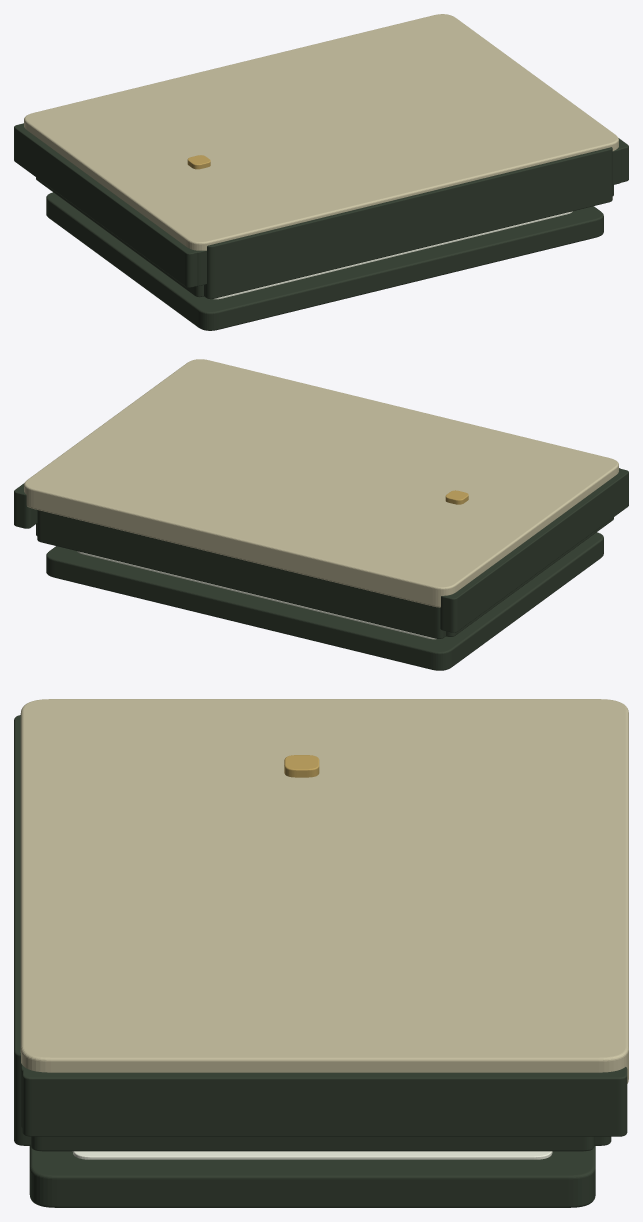
The model's file is balance-box.glb.
3 renders of one model, top to bottom at view 1: azimuth 30°, elevation 25°; view 2: azimuth 150°, elevation 25°; view 3: azimuth 270°, elevation 25°, orthographic. The views are drawn at different scales.
Visible parts, largest first — view 1: lid_panel, base_front_wall, base_floor, lid_left_lip, inner_tray, lid_front_lip, base_left_wall; view 2: lid_panel, base_floor, base_back_wall, lid_left_lip, inner_tray, lid_right_lip, base_left_wall; view 3: lid_panel, lid_right_lip, base_floor, base_right_wall, inner_tray, base_front_wall, item_perfume.
Part boxes in pixels (x1,y1,x2,y2): lid_panel: (24,14,618,250); base_front_wall: (204,147,612,299); base_floor: (46,192,603,330); lid_left_lip: (14,123,197,287); inner_tray: (213,211,572,299); lid_front_lip: (193,146,621,286); base_left_wall: (36,177,203,297); lid_panel: (24,359,618,607); base_floor: (46,532,603,670); base_back_wall: (37,510,445,638); lid_left_lip: (440,469,628,632); inner_tray: (77,551,436,639); lid_right_lip: (14,483,37,528); base_left_wall: (446,517,613,636); lid_panel: (20,699,628,1083); lid_right_lip: (22,1067,627,1136); base_floor: (29,1146,595,1207); base_right_wall: (31,1136,594,1151); inner_tray: (72,1151,552,1159); base_front_wall: (14,715,30,1145); item_perfume: (284,755,319,777).
Bounding box in the file's own units: 6.52 × 1.38 × 4.56.
